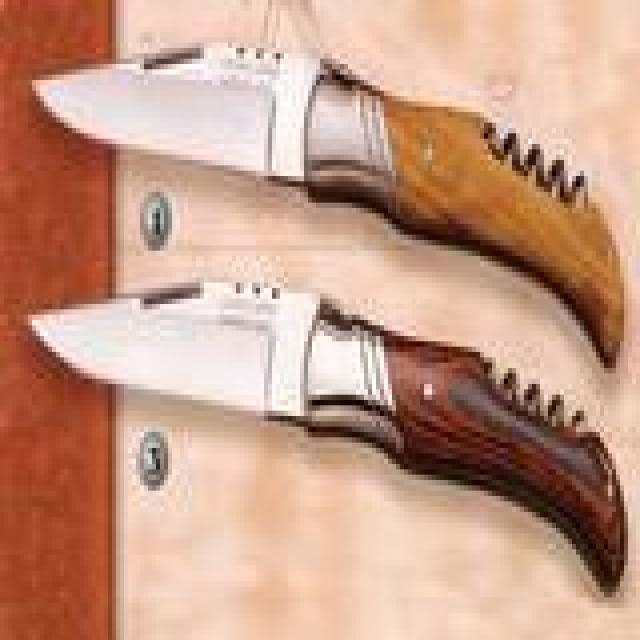Knife: (26, 36, 625, 581)
